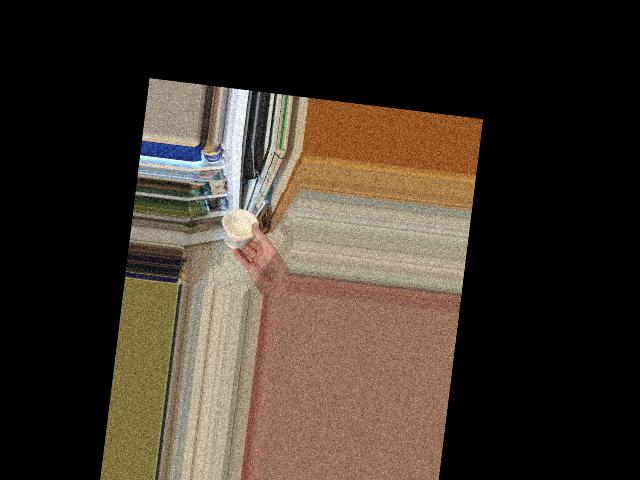cotage: (220, 208, 256, 250)
